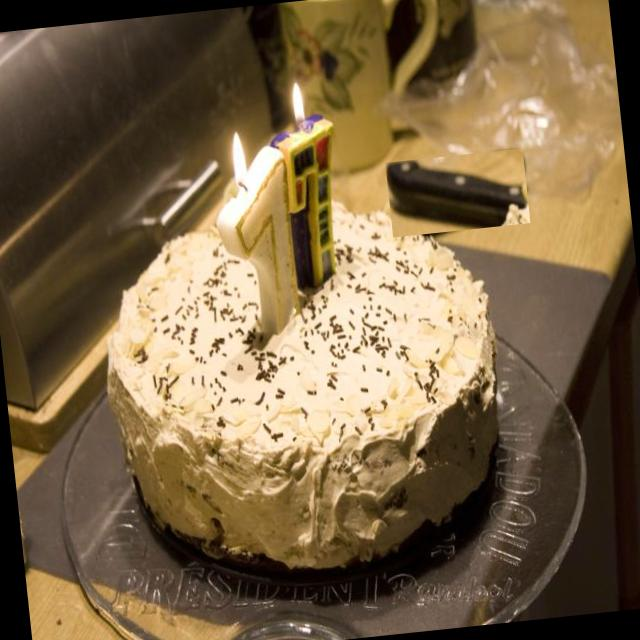Knife: (387, 161, 527, 227)
